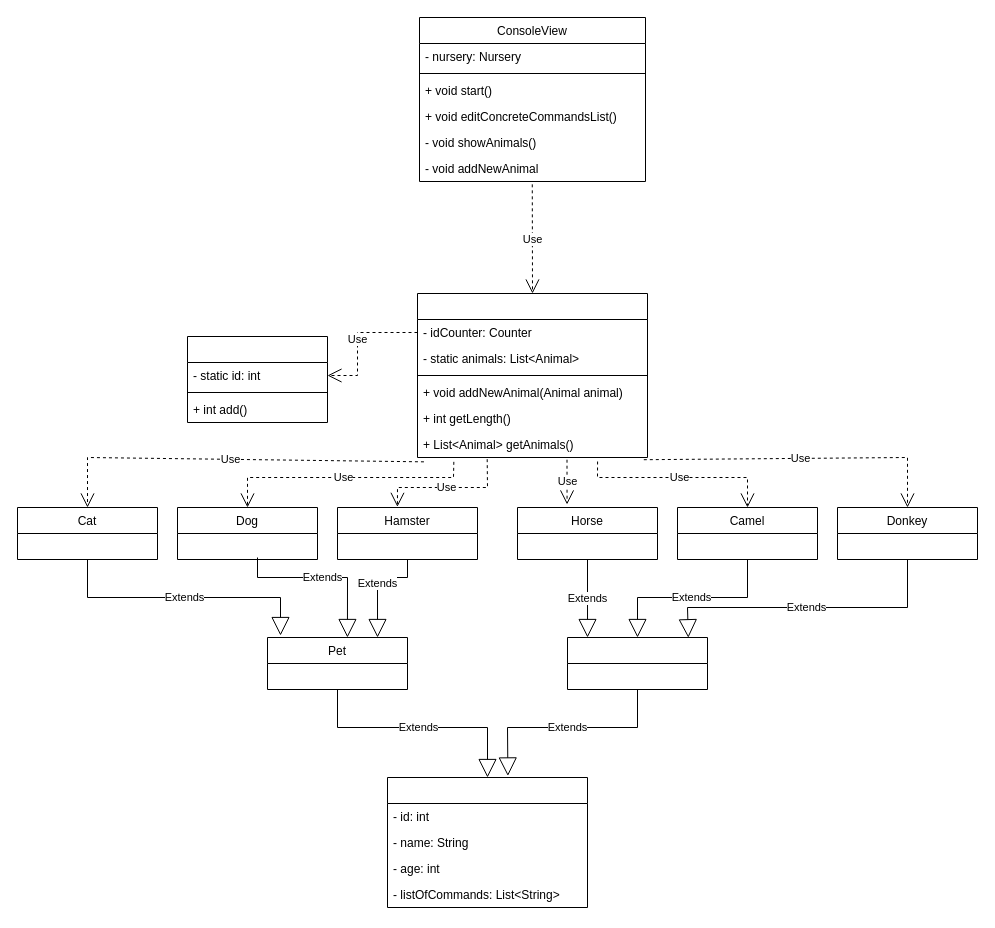
Some shapes in this 995 by 928 pixel diagram are drawn without their labels. The box of each missing label's shape, as (x1, y1, x2, y2) in pixels:
Animal: (386, 776, 588, 908)
Counter: (186, 336, 328, 422)
Nursery: (416, 292, 648, 458)
PackAnimal: (566, 636, 708, 690)
